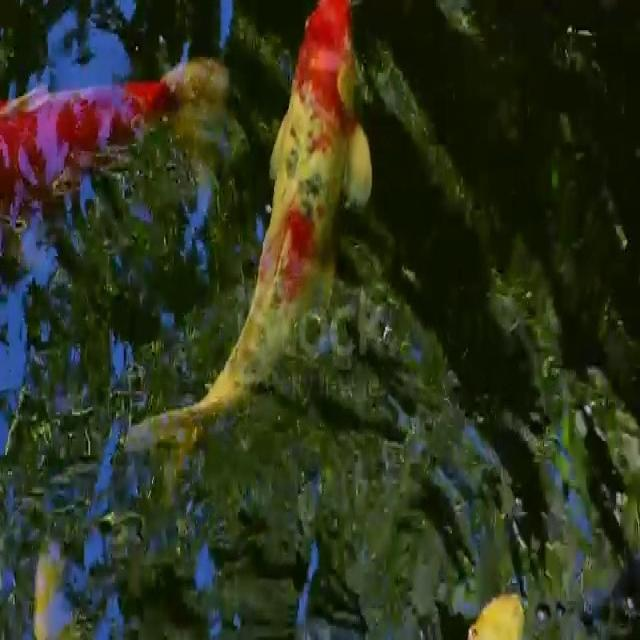fish: (240, 0, 373, 440), (447, 543, 518, 640)
